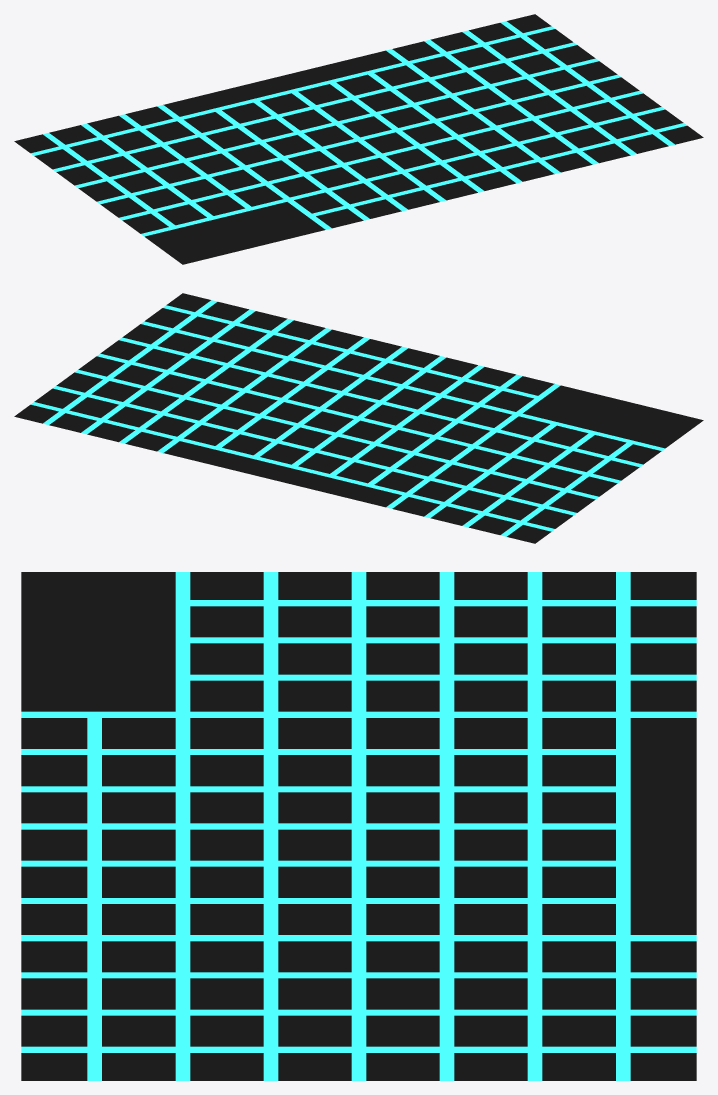
Rendered from field_endless.fbx.
The picture shows the model from 3 angles, top to bottom: view 1: azimuth 30°, elevation 25°; view 2: azimuth 150°, elevation 25°; view 3: azimuth 270°, elevation 25°; orthographic projection. The views are drawn at different scales.
Visible parts, largest first — view 1: Field; view 2: Field; view 3: Field.
Part boxes in pixels (<box>): Field: <box>14,14,703,264</box>; Field: <box>14,293,703,543</box>; Field: <box>21,572,696,1080</box>.
Size of the model in its own units: 4100 by 0.000375 by 2300.
